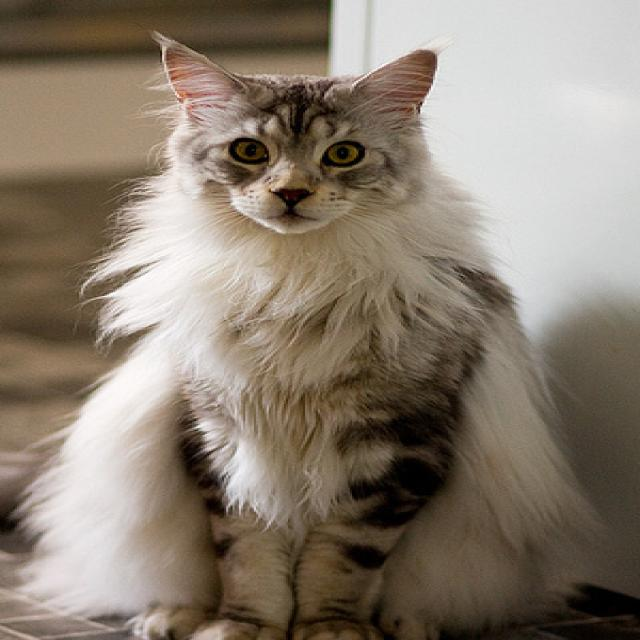Maine Coon: (19, 35, 605, 640)
